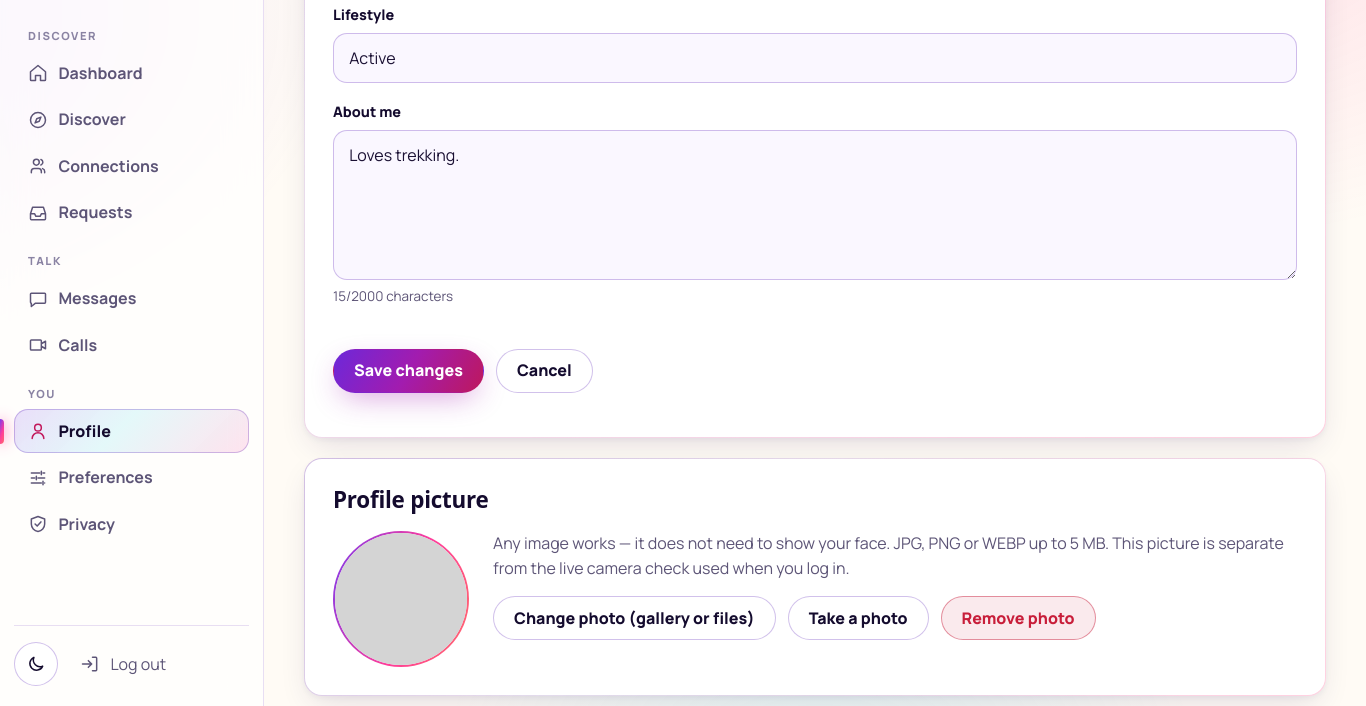
Test: edit profile › cancel returns to the profile without saving
This screenshot has width=1366, height=706.
(page scrolled)
Click the button "Cancel". click: [544, 370]
box: [496,348,593,392]
(page scrolled)
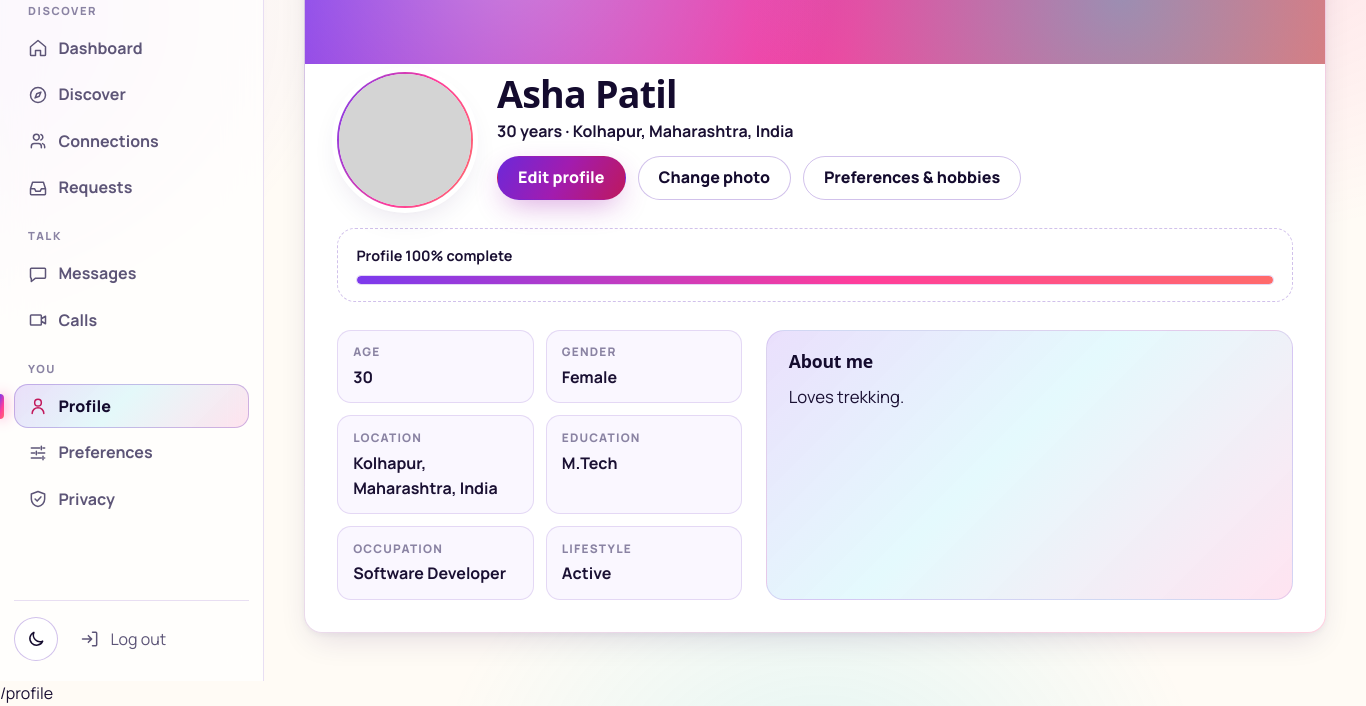
Expected: the text with test id "location" reads "/profile", [0,682,53,704]
